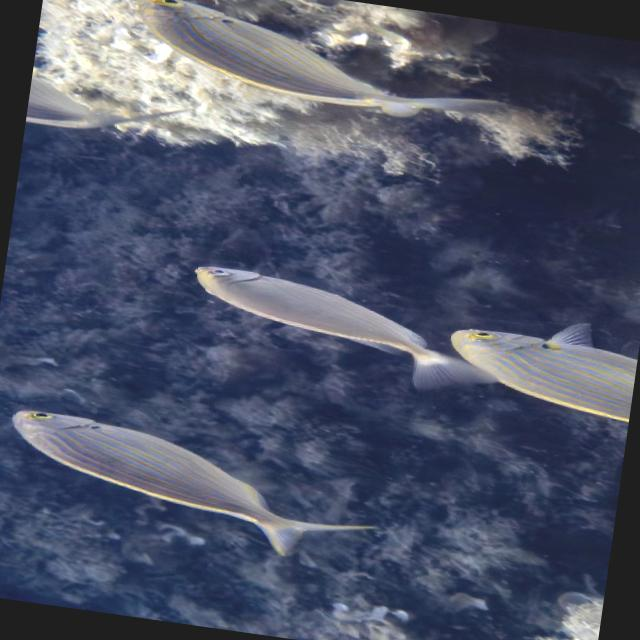Sokar Baligi: (0, 389, 397, 577), (96, 0, 545, 136)
